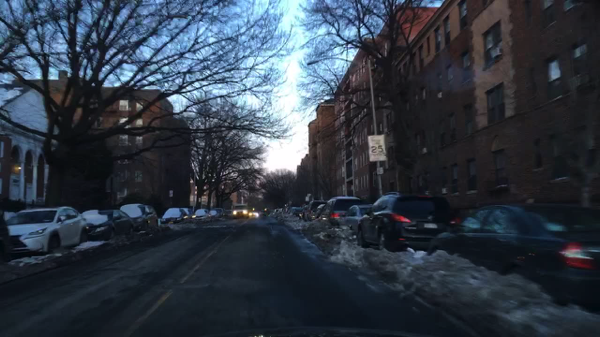car: (425, 203, 599, 315), (356, 191, 462, 254), (0, 206, 90, 259), (80, 207, 136, 242), (313, 196, 368, 227), (119, 203, 158, 234), (338, 205, 373, 233), (160, 207, 195, 225), (301, 201, 328, 223), (233, 203, 249, 219), (192, 209, 209, 221), (208, 208, 225, 219), (222, 209, 233, 218), (259, 209, 271, 217), (290, 207, 301, 213), (249, 212, 258, 218), (273, 208, 279, 214), (278, 208, 285, 213), (281, 209, 285, 215), (285, 207, 289, 213)
traffic sign: (366, 134, 387, 162)
